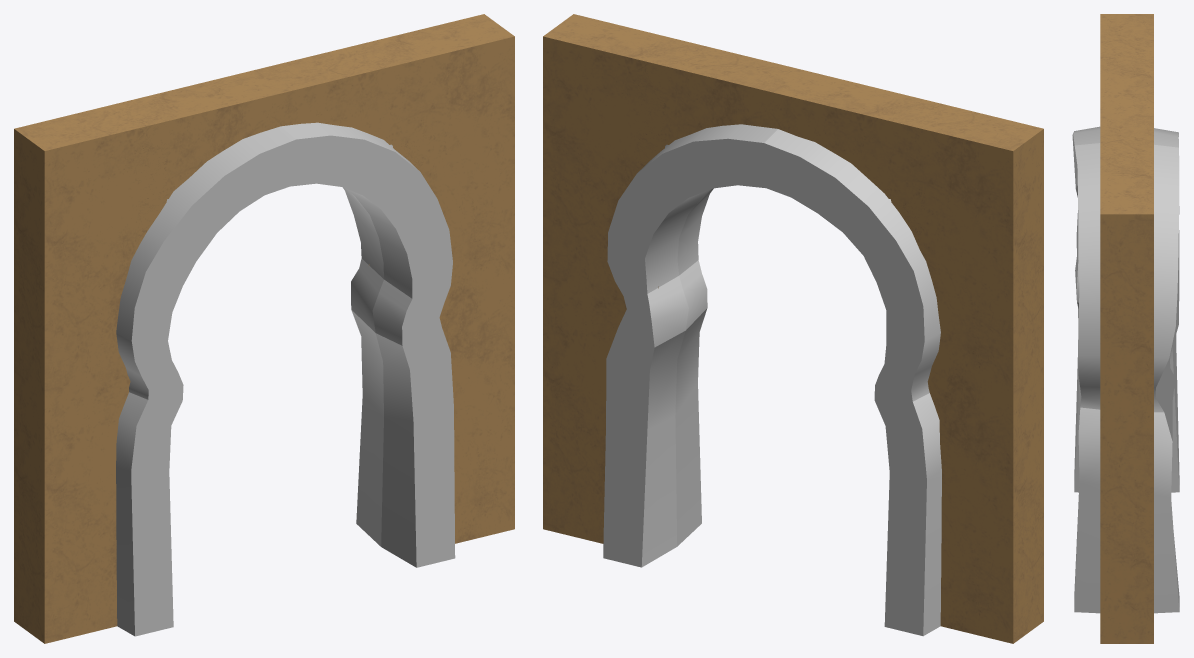
The model's file is FBX_wall_door.fbx.
The picture shows the model from 3 angles, left to right: view 1: azimuth 30°, elevation 25°; view 2: azimuth 150°, elevation 25°; view 3: azimuth 270°, elevation 25°; orthographic projection. The views are drawn at different scales.
Visible parts, largest first — view 1: wall_door; view 2: wall_door; view 3: wall_door.
Boxes of the visible parts, x1,y1,x2,y2 form: wall_door: [14, 14, 514, 643]; wall_door: [543, 14, 1043, 643]; wall_door: [1072, 14, 1179, 643].
Size of the model in its own units: 3.99 by 4 by 0.9026.
